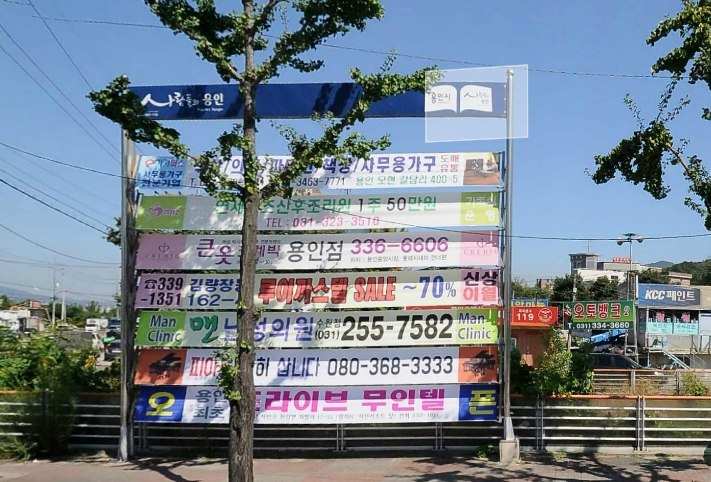banner: (124, 133, 519, 193), (111, 298, 548, 347), (110, 260, 528, 310), (96, 186, 530, 232), (110, 385, 523, 432), (101, 227, 531, 267), (105, 347, 523, 384)
